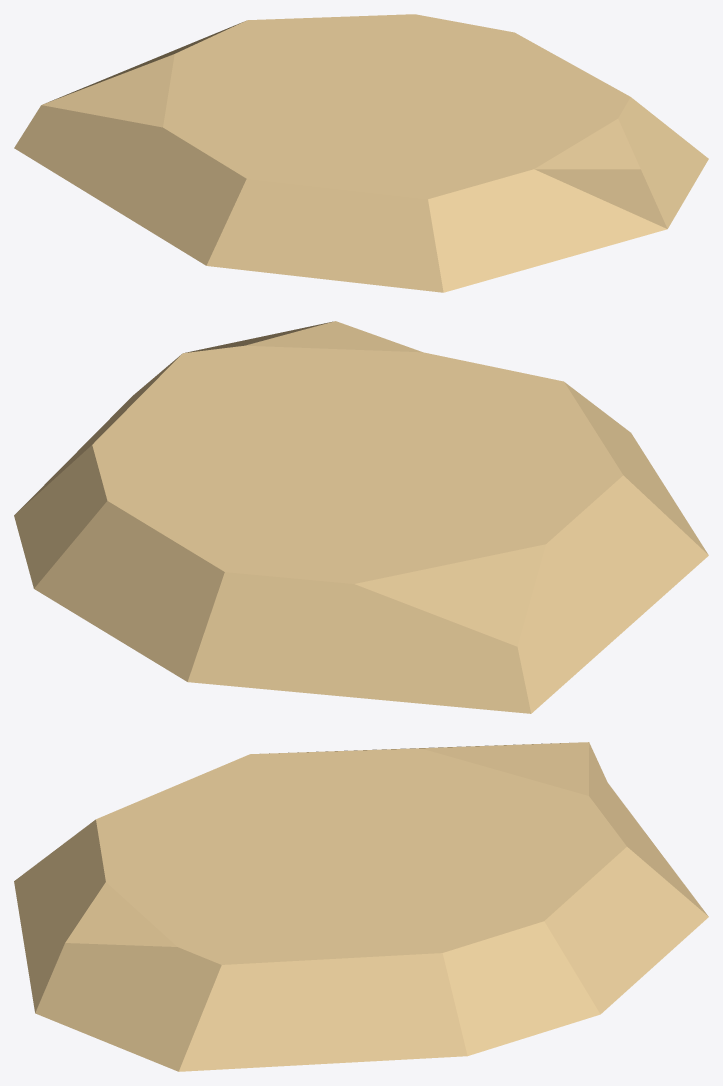
Rendered from Mesh_FloorStone1.glb.
3 views of the same model, one above another, from view 1: azimuth 30°, elevation 25°; view 2: azimuth 150°, elevation 25°; view 3: azimuth 270°, elevation 25° (orthographic). The views are drawn at different scales.
Visible parts, largest first — view 1: Cube.039; view 2: Cube.039; view 3: Cube.039.
Part boxes in pixels (<box>): Cube.039: <box>14,14,708,292</box>; Cube.039: <box>14,321,708,713</box>; Cube.039: <box>14,742,708,1071</box>.
Bounding box in the file's own units: 4.35 × 0.5124 × 4.42.
